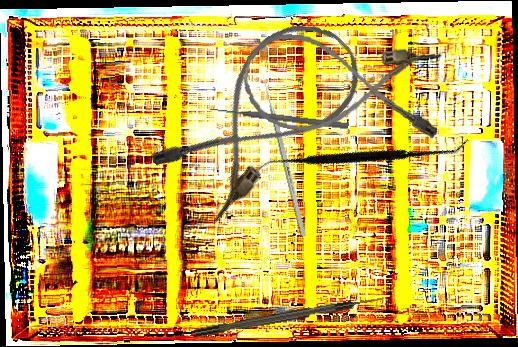Cannula: (143, 0, 378, 230), (238, 29, 446, 145)
Hook Surgical: (191, 294, 387, 338)
Pusher: (260, 73, 307, 237), (209, 104, 350, 131)
Spatula Surgical: (252, 53, 471, 257)
